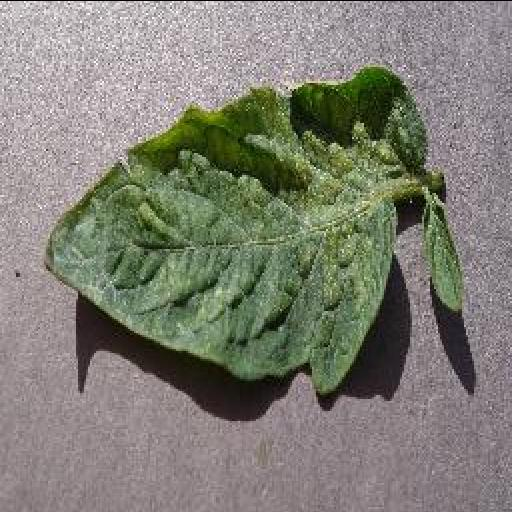disease_tomato: (42, 68, 426, 392)
